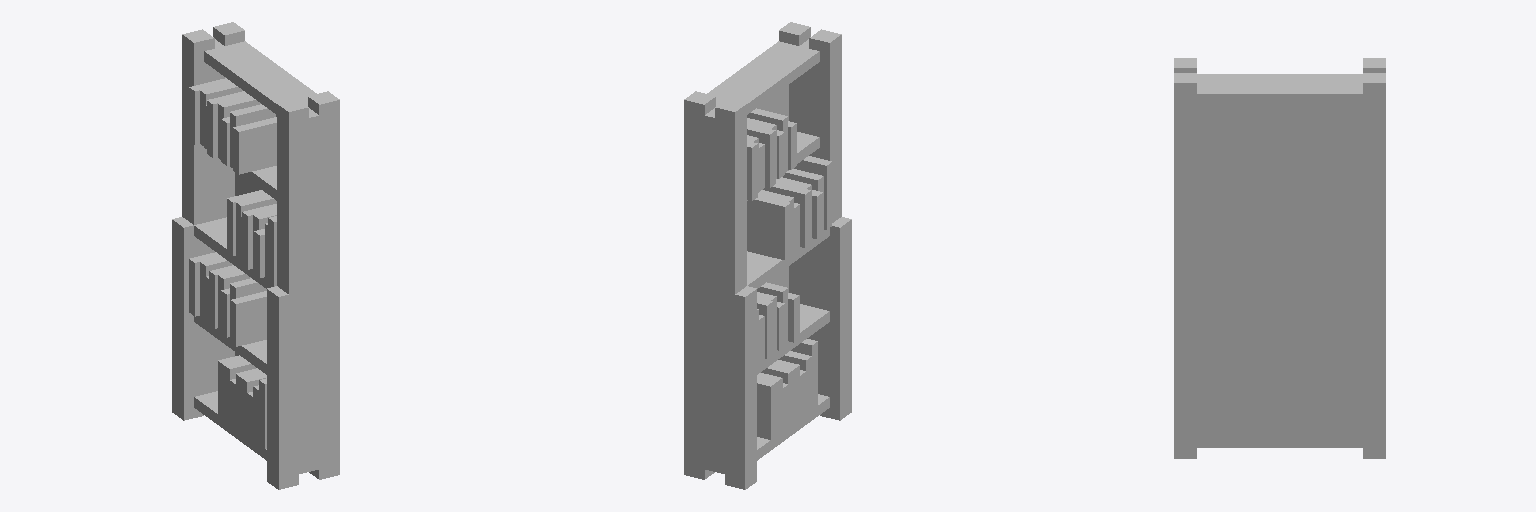
The model's file is BookShelf.obj.
The picture shows the model from 3 angles: view 1: azimuth 30°, elevation 25°; view 2: azimuth 150°, elevation 25°; view 3: azimuth 270°, elevation 25°; orthographic projection.
Parts seen in each view (by area): view 1: object 1; view 2: object 1; view 3: object 1.
Part boxes in pixels (x1,y1,x2,y2): object 1: (172,22,339,489); object 1: (684,22,851,489); object 1: (1174,58,1385,458).
Size of the model in its own units: 2.4 by 14 by 7.2.